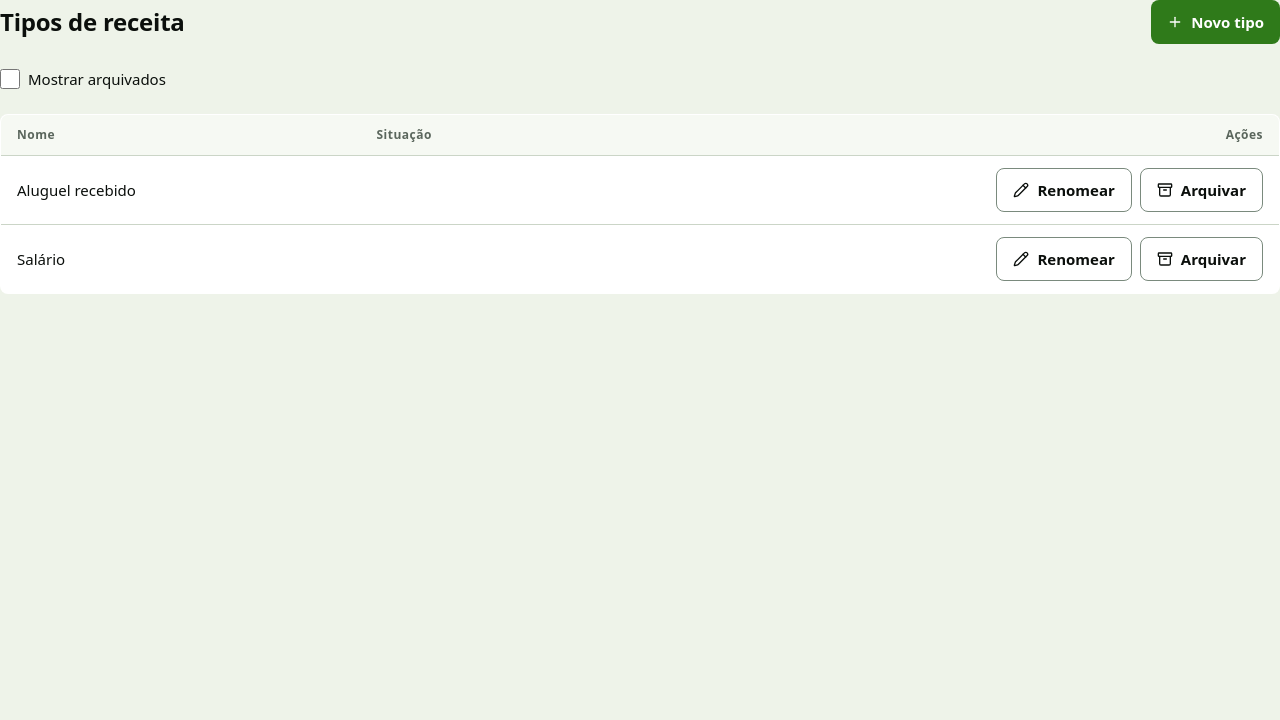
Scenario: EarningTypesPage › creates a type from Novo tipo, closes, invalidates and notifies
This screenshot has width=1280, height=720.
Click the button "Novo tipo" at [1216, 22], box top-left (1151, 0), bottom-right (1279, 44)
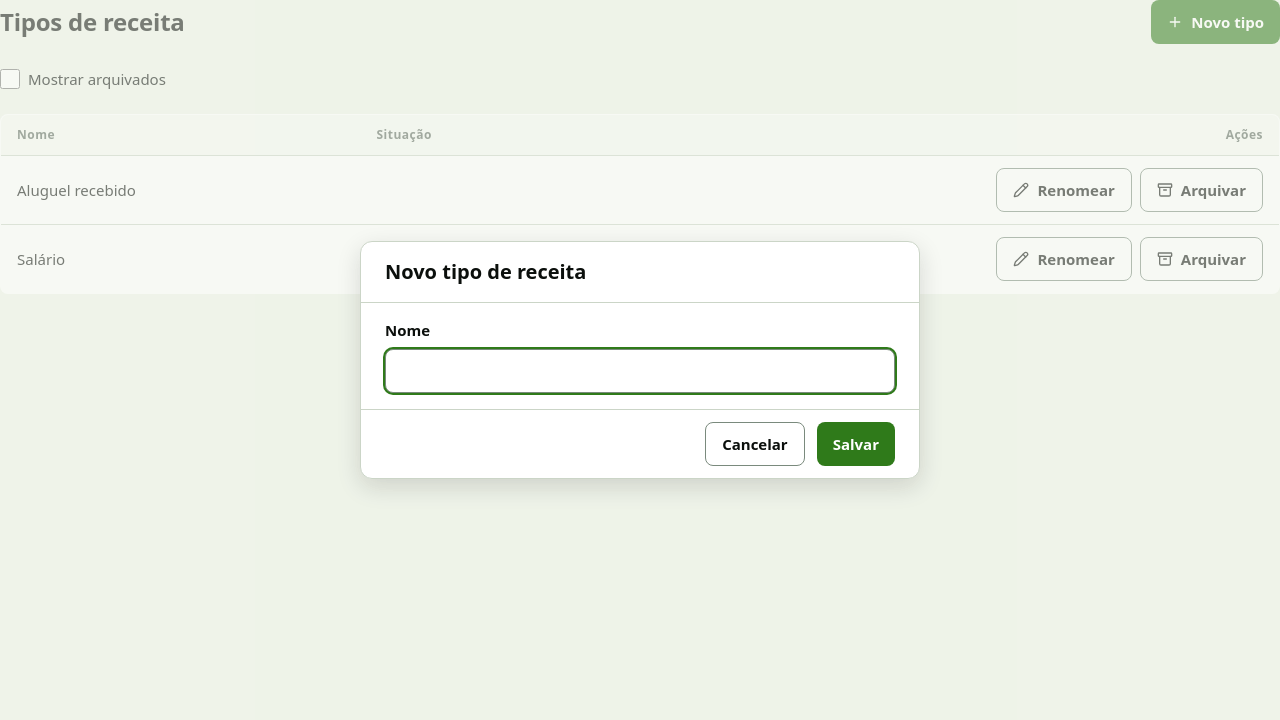
Type "  Dividendos " into the field labelled "Nome" at [640, 371], box top-left (385, 349), bottom-right (895, 393)
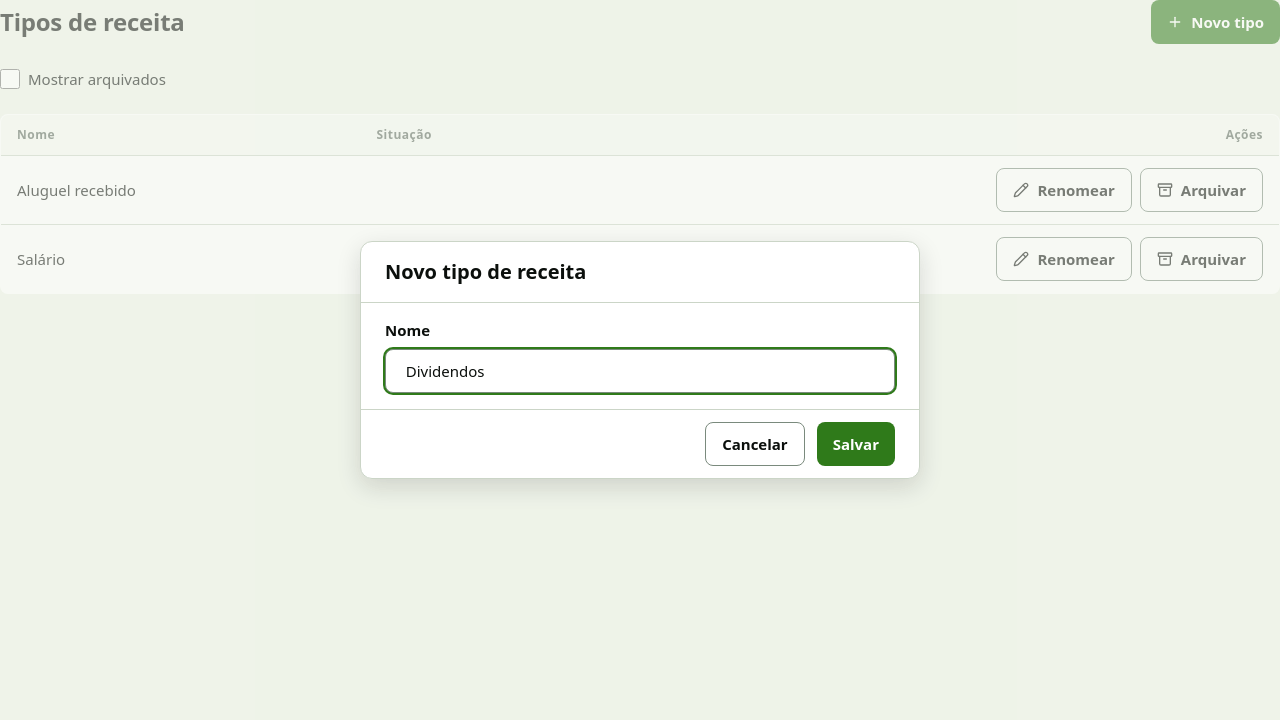
Click the button "Salvar" at [856, 444], box top-left (817, 422), bottom-right (895, 466)
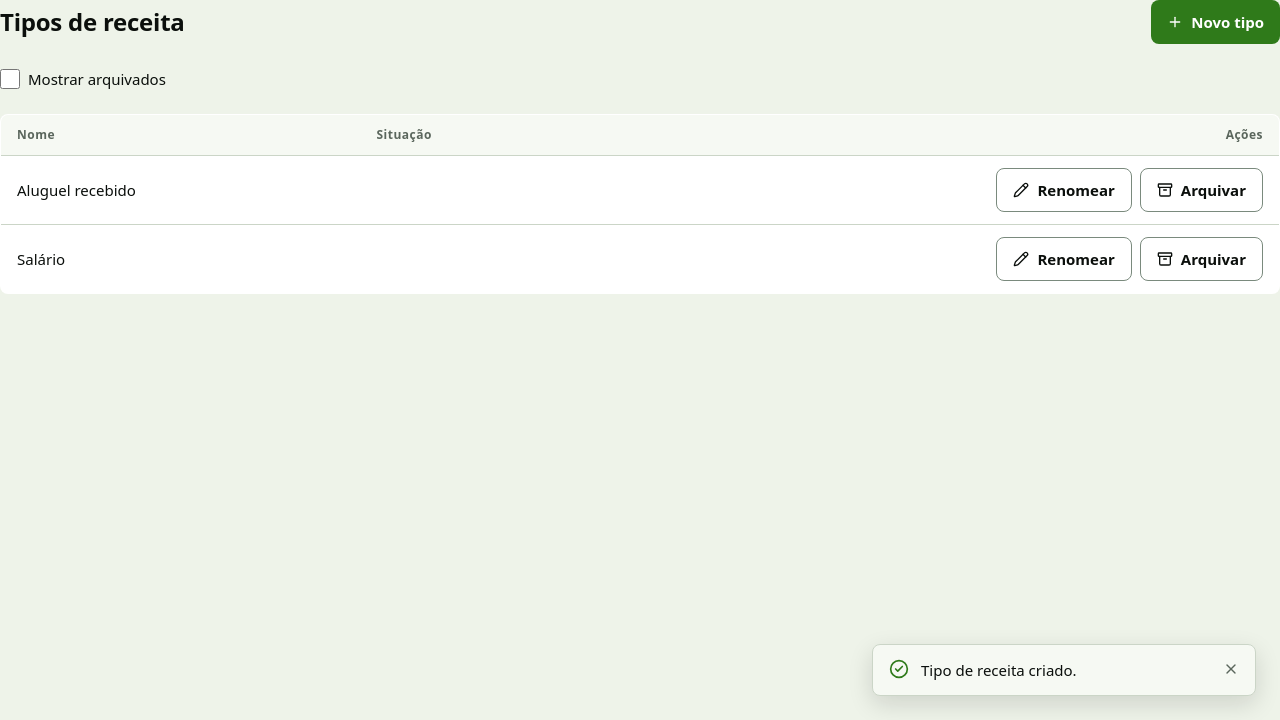
Expected: the dialog is gone
